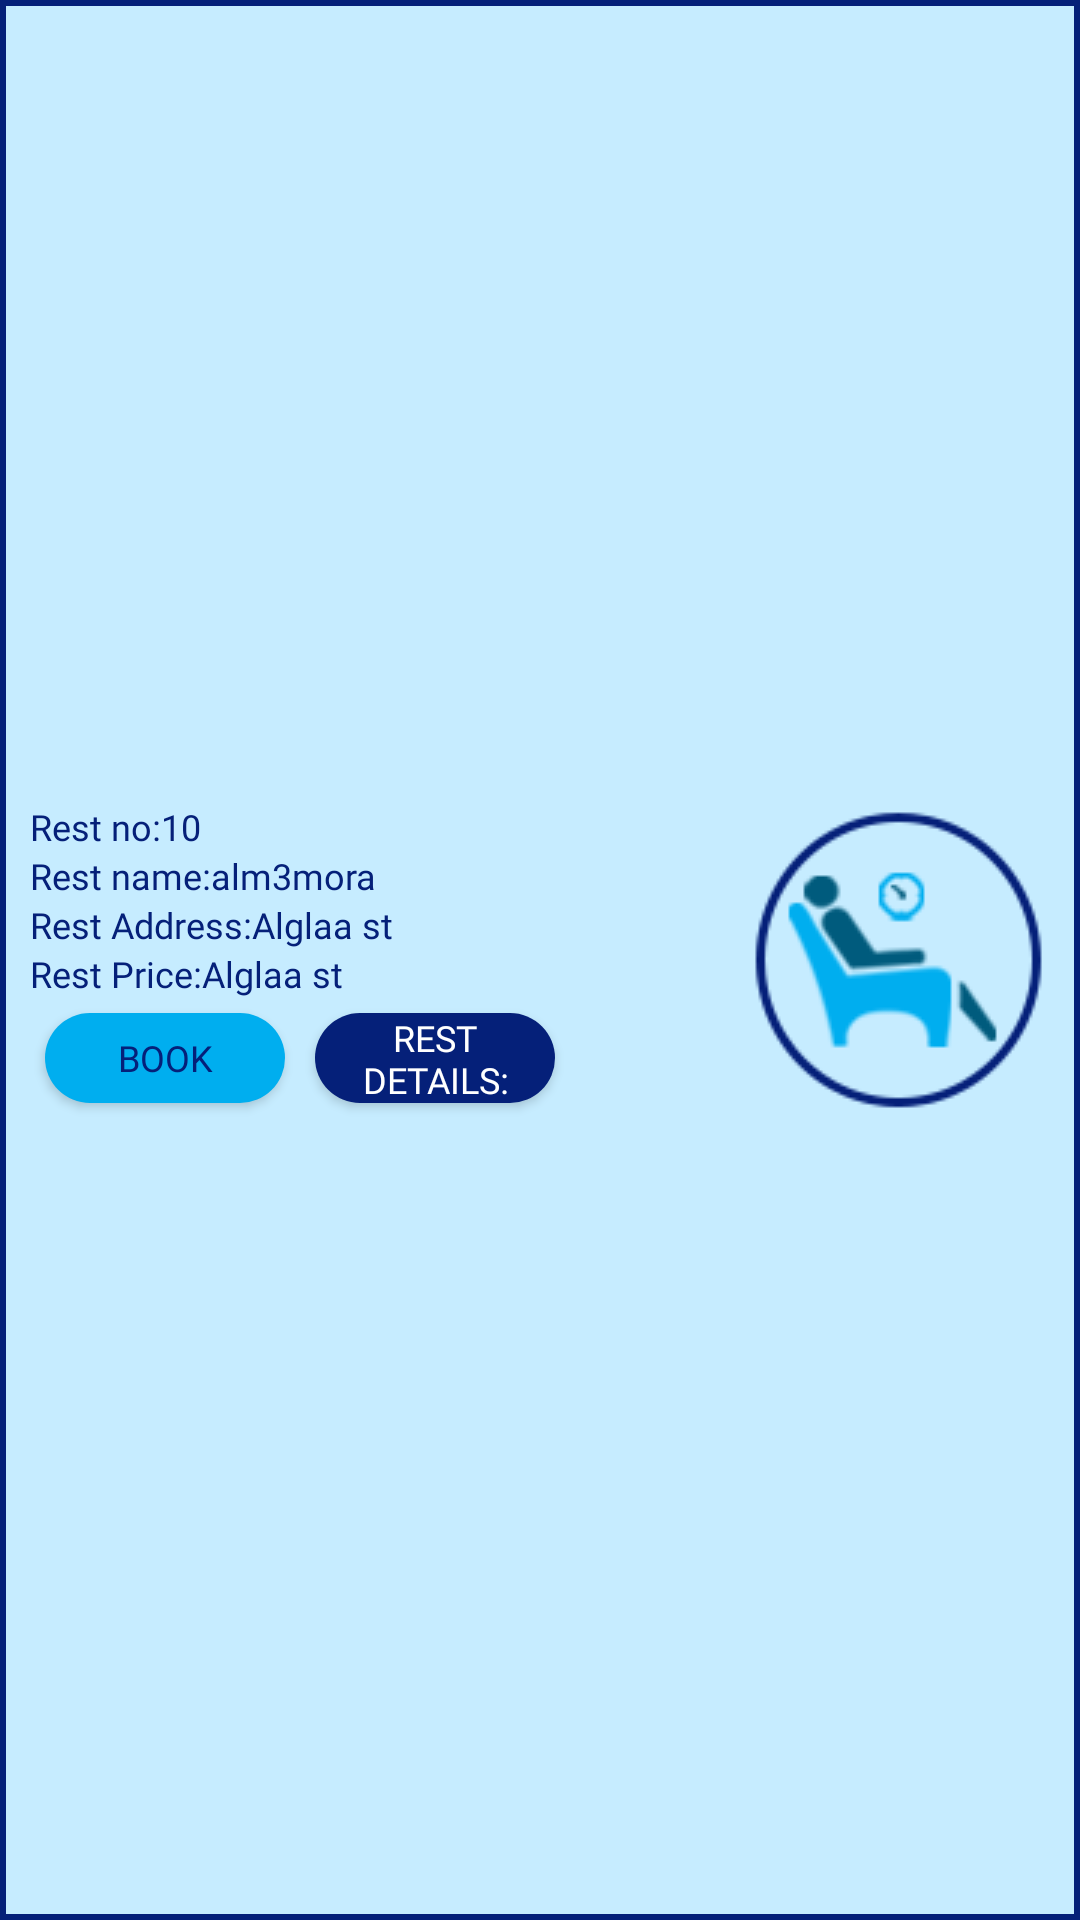

Screen size 1080x1920. Icon name, then its center in pixels as [x,y]:
esteraha: [898,960]
